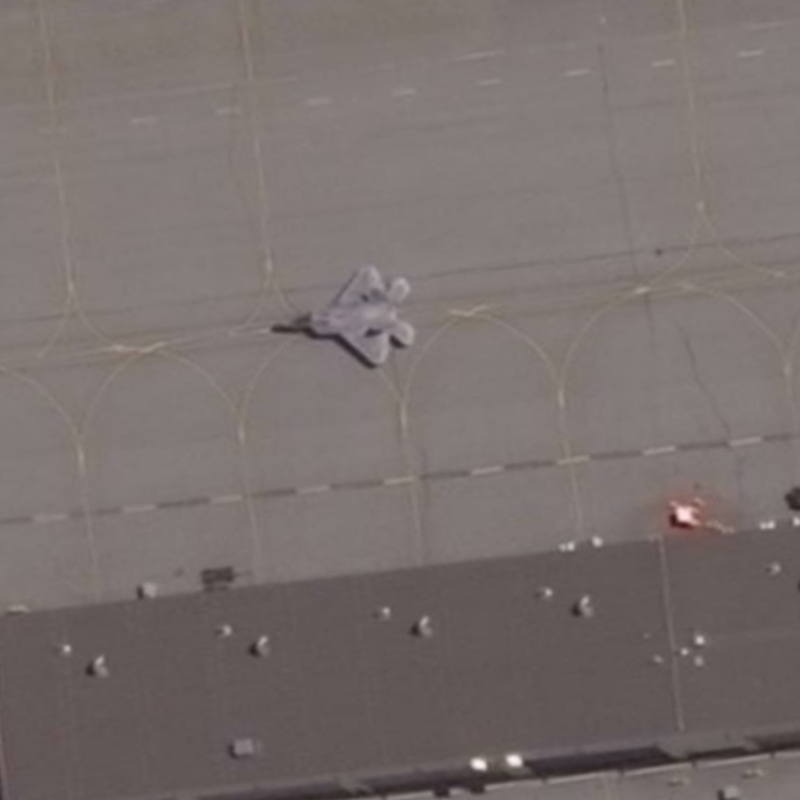A15: (256, 253, 425, 372)
